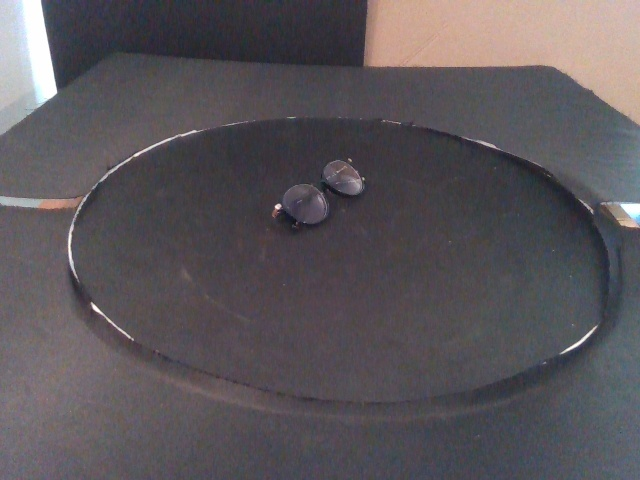glasses: (270, 156, 367, 232)
